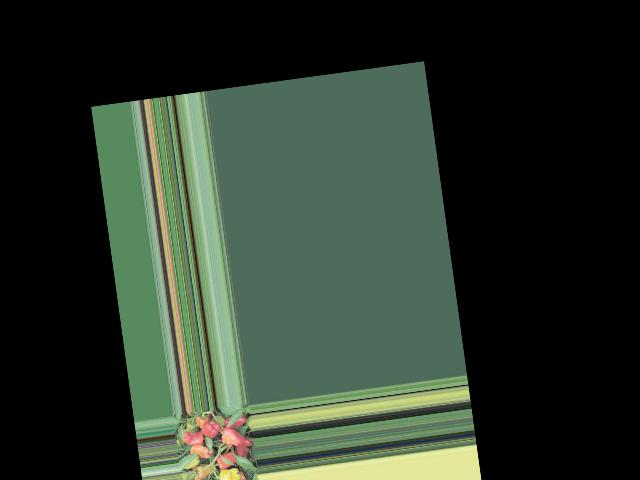bell_pepper: (194, 413, 206, 428)
